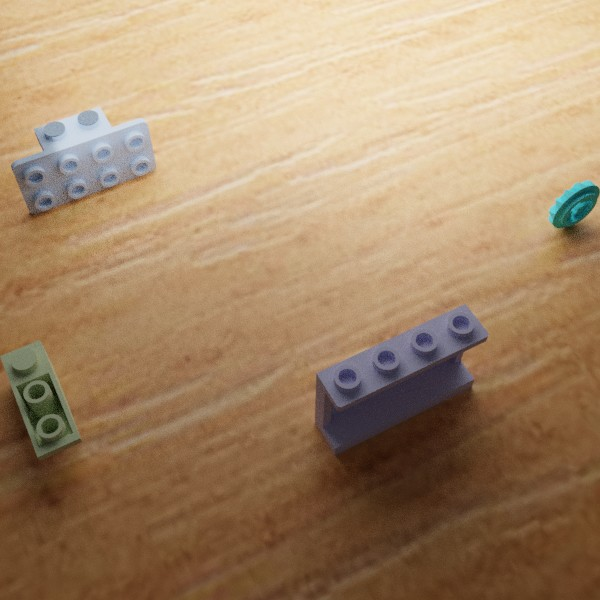lego: (314, 303, 488, 455), (10, 106, 156, 214), (0, 339, 82, 461), (547, 179, 599, 228)
